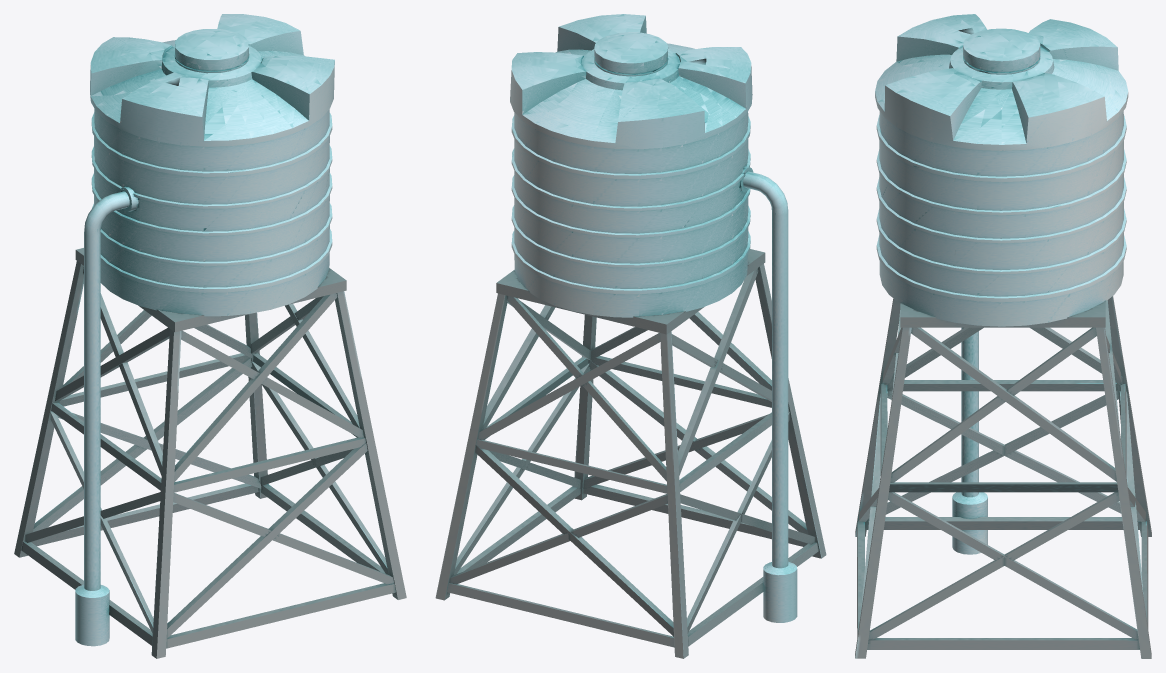
The model's file is water-tank.fbx.
The picture shows the model from 3 angles, left to right: view 1: azimuth 30°, elevation 25°; view 2: azimuth 150°, elevation 25°; view 3: azimuth 270°, elevation 25°; orthographic projection. The views are drawn at different scales.
Parts seen in each view (by area): view 1: Cube.032, Cube.000; view 2: Cube.032, Cube.000; view 3: Cube.032, Cube.000.
Boxes of the visible parts, x1,y1,x2,y2 form: Cube.032: (75, 14, 334, 646); Cube.000: (14, 248, 406, 658); Cube.032: (510, 14, 797, 622); Cube.000: (435, 249, 826, 658); Cube.032: (875, 14, 1128, 554); Cube.000: (855, 296, 1151, 658).
Bounding box in the file's own units: 1038 × 1998 × 938.
1 material, 1 textured.
